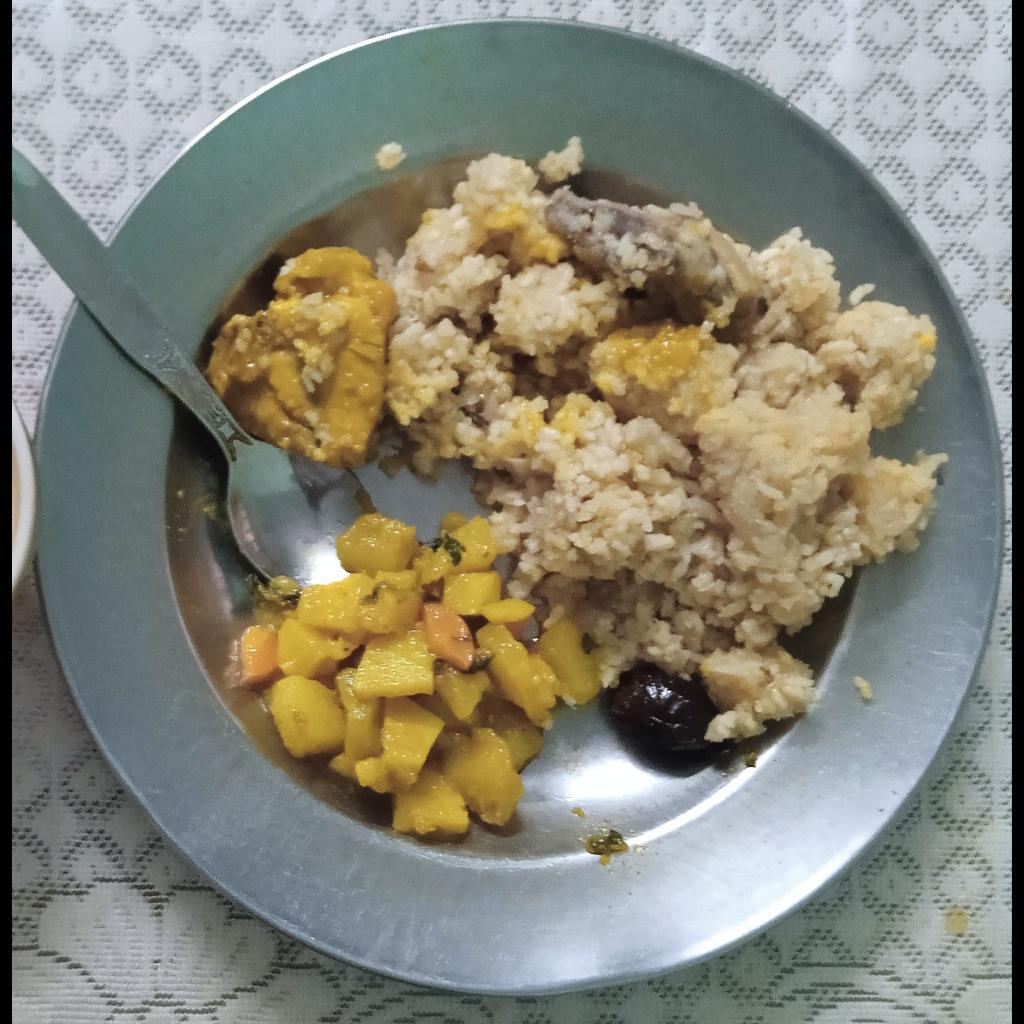biriyani: (388, 138, 943, 734)
chicken: (204, 245, 401, 469)
dates: (605, 662, 738, 780)
vegetable: (238, 513, 604, 839)
